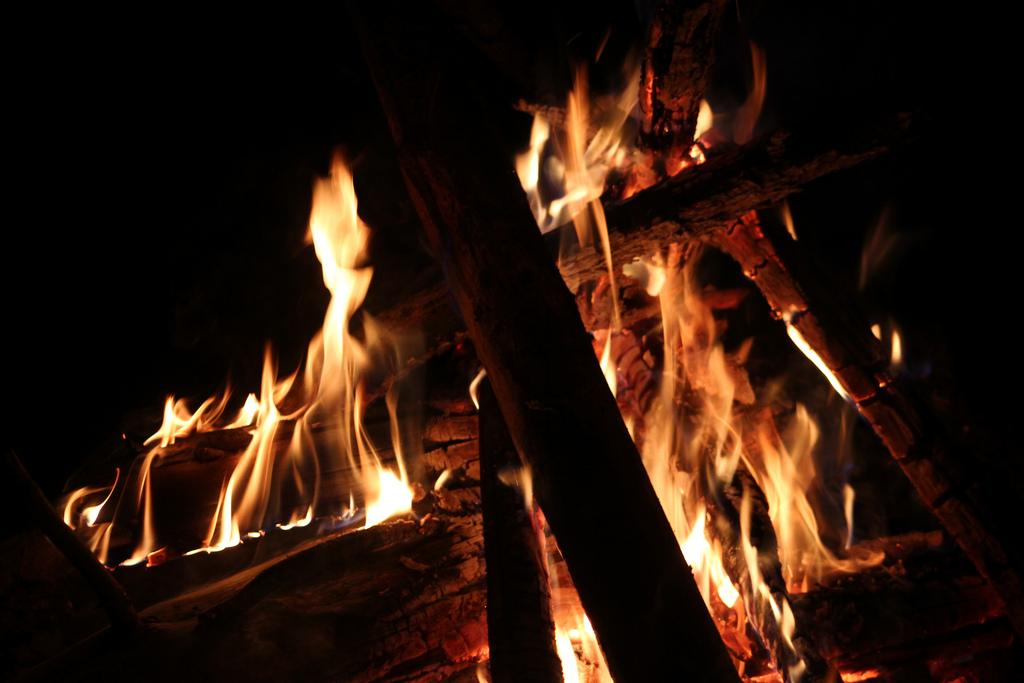fire: (623, 275, 785, 545), (253, 367, 387, 525), (312, 183, 370, 340)
